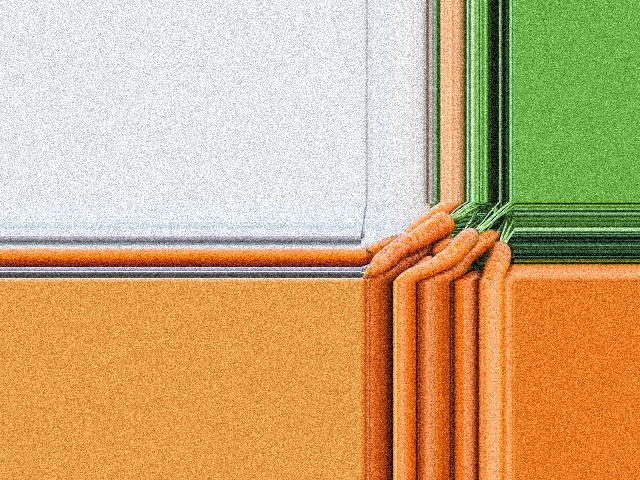carrot: (482, 235, 515, 281)
